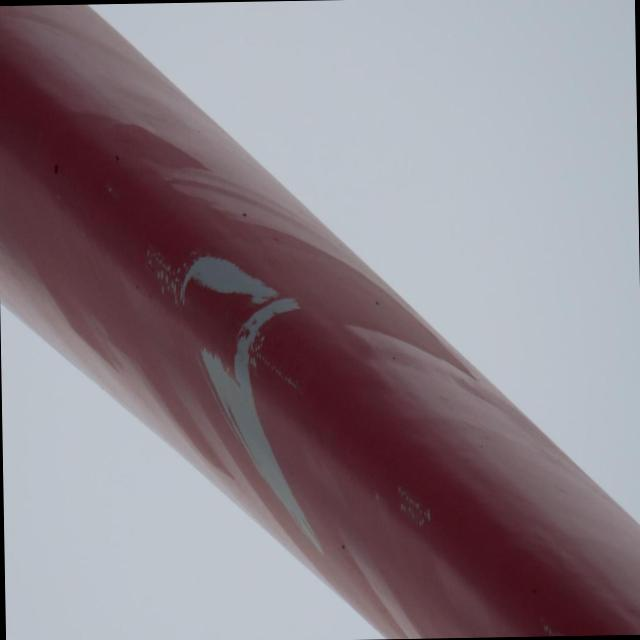surface_peeling: (174, 253, 304, 538)
